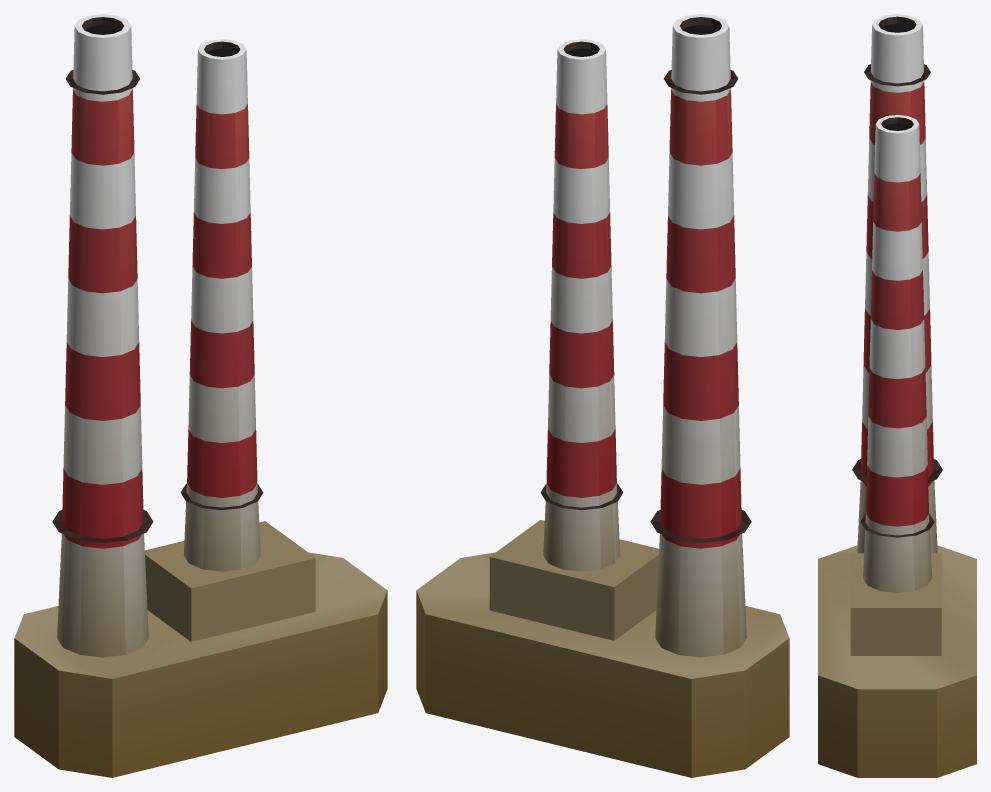
The model's file is SM_Factory_Chimney_01.fbx.
3 views of the same model, side by side, from view 1: azimuth 30°, elevation 25°; view 2: azimuth 150°, elevation 25°; view 3: azimuth 270°, elevation 25° (orthographic). The views are drawn at different scales.
Visible parts, largest first — view 1: SM_Factory_Chimney_01; view 2: SM_Factory_Chimney_01; view 3: SM_Factory_Chimney_01.
Part boxes in pixels (bbox=[...]): SM_Factory_Chimney_01: bbox=[14, 14, 387, 777]; SM_Factory_Chimney_01: bbox=[416, 14, 789, 777]; SM_Factory_Chimney_01: bbox=[818, 14, 976, 777].
Bounding box in the file's own units: 6.74 × 13.94 × 3.14.
